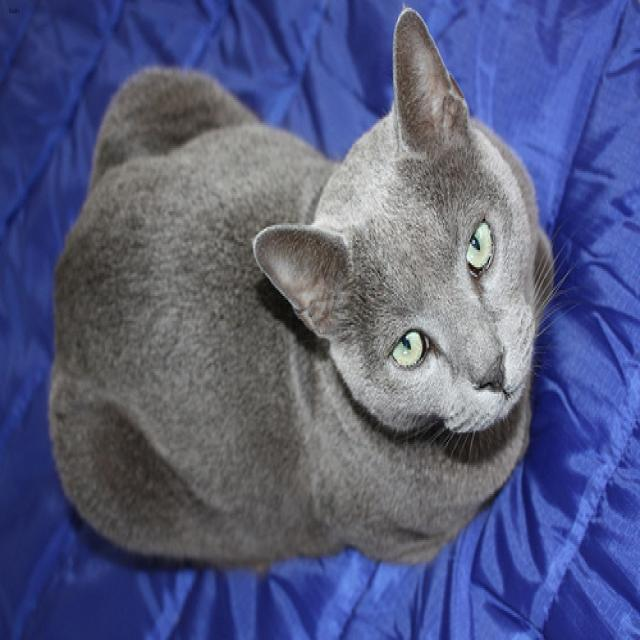Russian_Blue: (249, 0, 535, 436)
